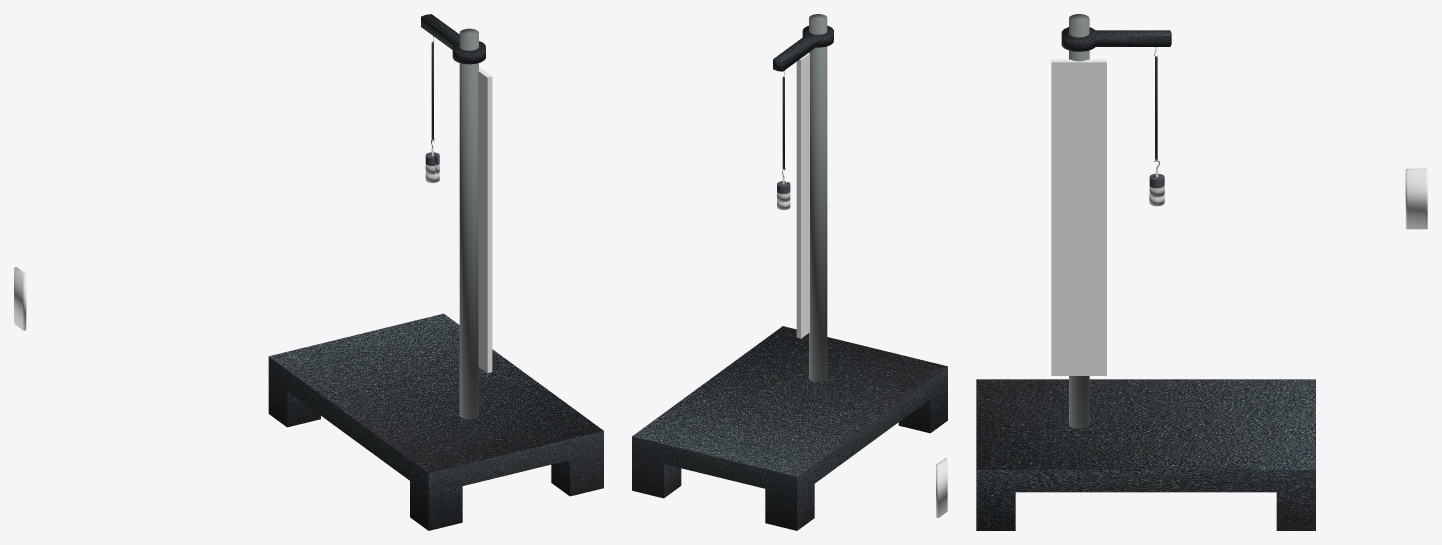
The model's file is creep.glb.
The picture shows the model from 3 angles, left to right: view 1: azimuth 30°, elevation 25°; view 2: azimuth 150°, elevation 25°; view 3: azimuth 270°, elevation 25°; orthographic projection. The views are drawn at different scales.
Visible parts, largest first — view 1: Plane, Circle, Plane.001, Circle.001, Cylinder.002; view 2: Plane, Circle, Plane.001, Circle.001, Cylinder.002; view 3: Plane, Plane.001, Circle.001, Circle, Cylinder.002.
Boxes of the visible parts, <box> form: Plane: <box>268,313,603,530</box>; Circle: <box>459,28,478,419</box>; Plane.001: <box>478,67,492,373</box>; Circle.001: <box>421,14,485,64</box>; Cylinder.002: <box>14,267,26,330</box>; Plane: <box>632,326,947,530</box>; Circle: <box>809,14,827,381</box>; Plane.001: <box>796,52,809,338</box>; Circle.001: <box>773,25,833,71</box>; Cylinder.002: <box>936,458,947,517</box>; Plane: <box>976,379,1315,530</box>; Plane.001: <box>1051,59,1106,375</box>; Circle.001: <box>1061,27,1171,51</box>; Circle: <box>1069,14,1089,428</box>; Cylinder.002: <box>1405,168,1427,229</box>.
Bounding box in the file's own units: 1.22 × 1.36 × 1.19.
3 materials, 2 textured.
